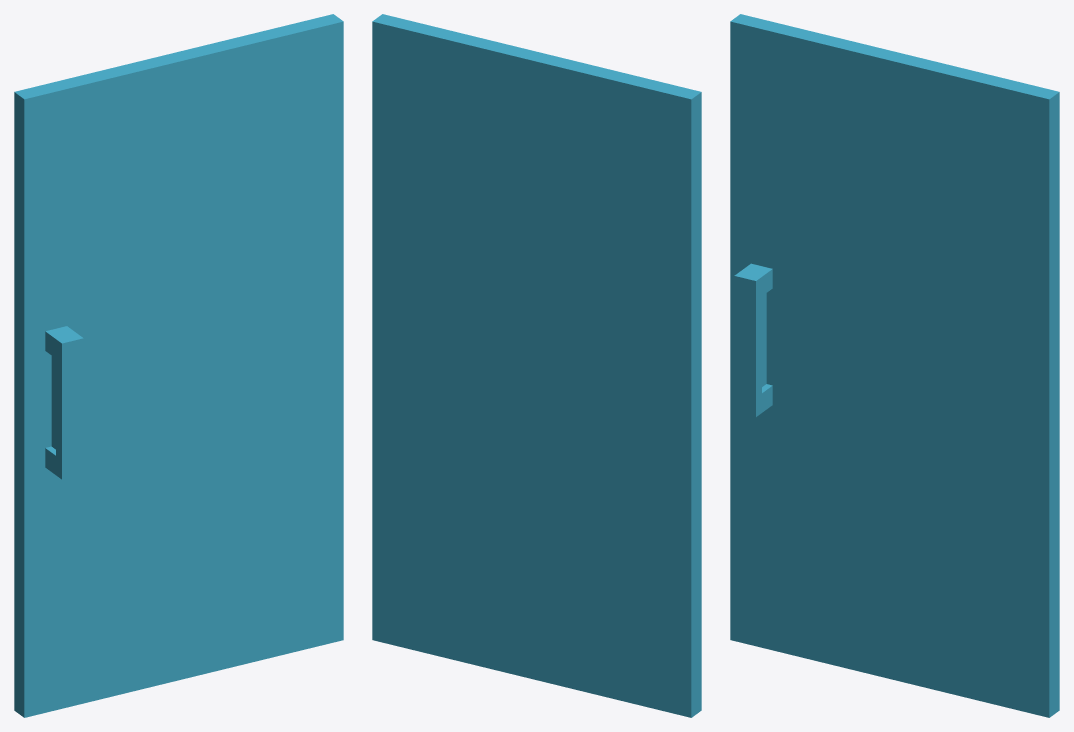
File: Itr_Shelf1_Door_Right_05.FBX
The picture shows the model from 3 angles, left to right: view 1: azimuth 30°, elevation 25°; view 2: azimuth 150°, elevation 25°; view 3: azimuth 330°, elevation 25°; orthographic projection.
Parts seen in each view (by area): view 1: Itr_Shelf1_Door_Right_05; view 2: Itr_Shelf1_Door_Right_05; view 3: Itr_Shelf1_Door_Right_05.
Boxes of the visible parts, x1=… form: Itr_Shelf1_Door_Right_05: x1=14, y1=14, x2=343, y2=717; Itr_Shelf1_Door_Right_05: x1=372, y1=14, x2=701, y2=717; Itr_Shelf1_Door_Right_05: x1=730, y1=14, x2=1059, y2=717.
Bounding box in the file's own units: 22.1 × 40.92 × 3.23.
